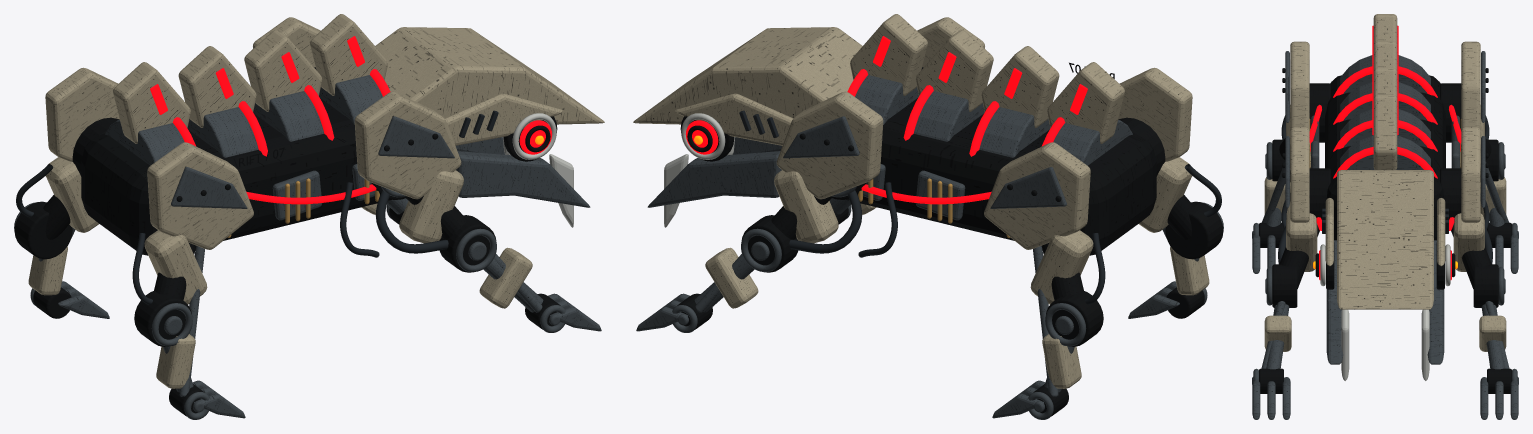
The model's file is crawler.glb.
3 views of the same model, side by side, from view 1: azimuth 30°, elevation 25°; view 2: azimuth 150°, elevation 25°; view 3: azimuth 270°, elevation 25° (orthographic). The views are drawn at different scales.
Parts seen in each view (by area): view 1: RIFT_Crawler_REF_ceramic, RIFT_Crawler_REF_steel, RIFT_Crawler_REF_dark, RIFT_Crawler_REF_red, Front_near_REF_ceramic, Rear_far_REF_dark, Rear_near_REF_ceramic, Front_near_REF_steel, Rear_far_REF_ceramic, Rear_near_REF_steel, Rear_near_REF_dark, Front_near_REF_dark (+5 smaller); view 2: RIFT_Crawler_REF_ceramic, RIFT_Crawler_REF_steel, RIFT_Crawler_REF_dark, RIFT_Crawler_REF_red, Front_far_REF_ceramic, Rear_near_REF_dark, Rear_far_REF_ceramic, Front_far_REF_steel, Rear_near_REF_ceramic, Rear_far_REF_steel, Rear_far_REF_dark, Front_far_REF_dark (+5 smaller); view 3: RIFT_Crawler_REF_ceramic, RIFT_Crawler_REF_steel, RIFT_Crawler_REF_dark, RIFT_Crawler_REF_red, Front_far_REF_dark, Front_near_REF_dark, Front_far_REF_steel, Front_near_REF_steel, Front_far_REF_ceramic, Front_near_REF_ceramic, Rear_far_REF_dark, Rear_near_REF_dark (+6 smaller).
Part boxes in pixels (<box>): RIFT_Crawler_REF_ceramic: <box>45,14,604,249</box>; RIFT_Crawler_REF_steel: <box>105,75,590,220</box>; RIFT_Crawler_REF_dark: <box>81,98,557,255</box>; RIFT_Crawler_REF_red: <box>150,36,552,204</box>; Front_near_REF_ceramic: <box>399,170,532,308</box>; Rear_far_REF_dark: <box>14,117,119,318</box>; Rear_near_REF_ceramic: <box>144,230,207,388</box>; Front_near_REF_steel: <box>381,186,601,332</box>; Rear_far_REF_ceramic: <box>28,157,98,295</box>; Rear_near_REF_steel: <box>151,246,245,419</box>; Rear_near_REF_dark: <box>134,227,204,416</box>; Front_near_REF_dark: <box>371,182,560,329</box>; RIFT_Crawler_REF_ceramic: <box>633,14,1192,249</box>; RIFT_Crawler_REF_steel: <box>647,75,1132,220</box>; RIFT_Crawler_REF_dark: <box>680,62,1156,255</box>; RIFT_Crawler_REF_red: <box>685,36,1087,204</box>; Front_far_REF_ceramic: <box>705,170,838,308</box>; Rear_near_REF_dark: <box>1118,117,1223,318</box>; Rear_far_REF_ceramic: <box>1030,230,1093,388</box>; Front_far_REF_steel: <box>636,186,856,332</box>; Rear_near_REF_ceramic: <box>1139,157,1209,295</box>; Rear_far_REF_steel: <box>992,246,1086,419</box>; Rear_far_REF_dark: <box>1033,227,1103,416</box>; Front_far_REF_dark: <box>677,182,866,329</box>; RIFT_Crawler_REF_ceramic: <box>1290,14,1480,309</box>; RIFT_Crawler_REF_steel: <box>1285,51,1485,364</box>; RIFT_Crawler_REF_dark: <box>1282,68,1488,289</box>; RIFT_Crawler_REF_red: <box>1309,25,1461,279</box>; Front_far_REF_dark: <box>1440,168,1511,393</box>; Front_near_REF_dark: <box>1259,168,1330,393</box>; Front_far_REF_steel: <box>1480,266,1518,419</box>; Front_near_REF_steel: <box>1252,266,1290,419</box>; Front_far_REF_ceramic: <box>1453,213,1506,351</box>; Front_near_REF_ceramic: <box>1264,213,1317,351</box>; Rear_far_REF_dark: <box>1440,83,1511,247</box>; Rear_near_REF_dark: <box>1259,83,1330,247</box>.
Size of the model in its own units: 1.46 by 0.8296 by 0.796.
Materials: 8 (3 with a texture image).
